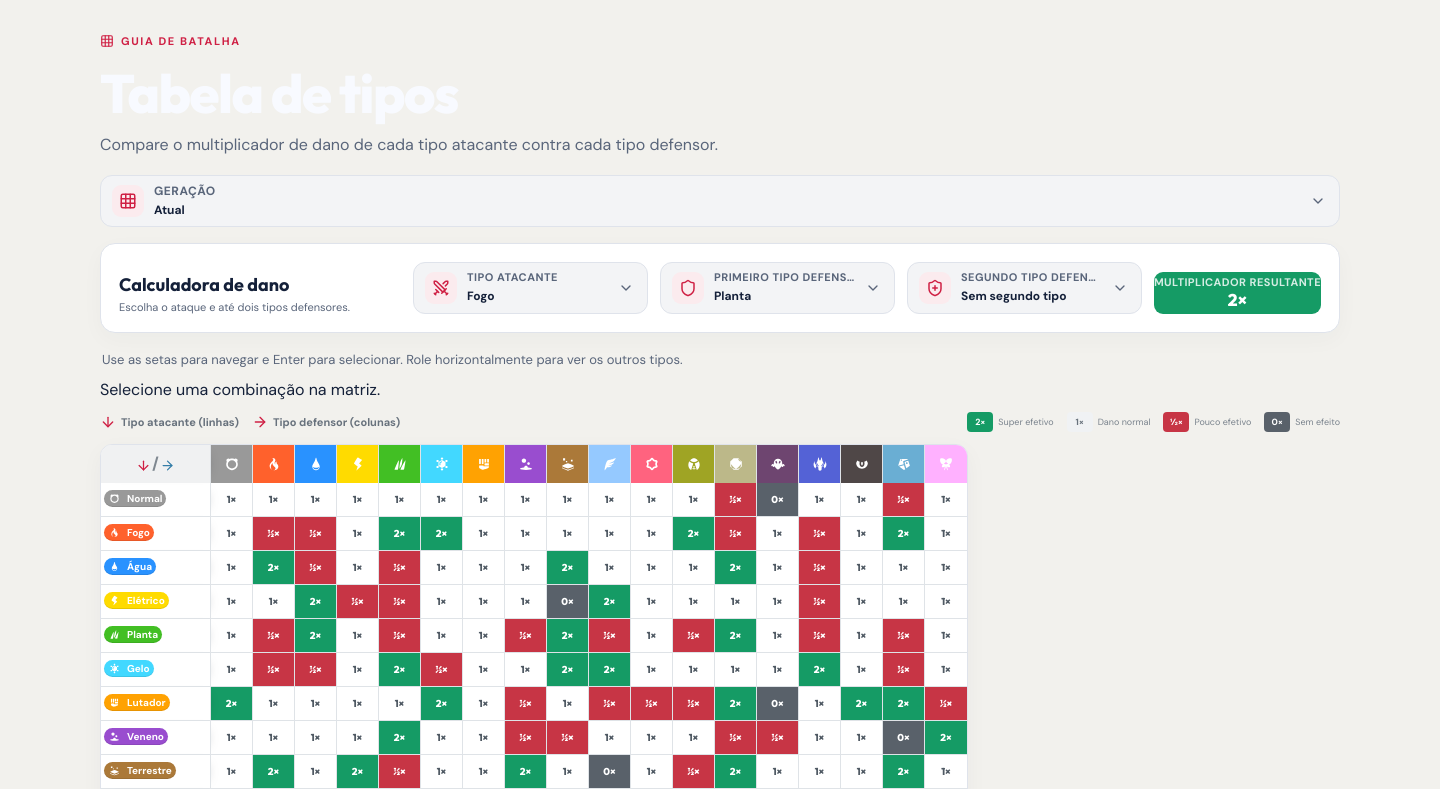
Test: TypesTablePage › clears a duplicate second defender when the first selector changes
What coordinates should you click on to do the following:
click the dropdown labelled "Segundo tipo defensor"
I would click on:
 (1024, 288)
Its box is x1=907 y1=262 x2=1142 y2=314.
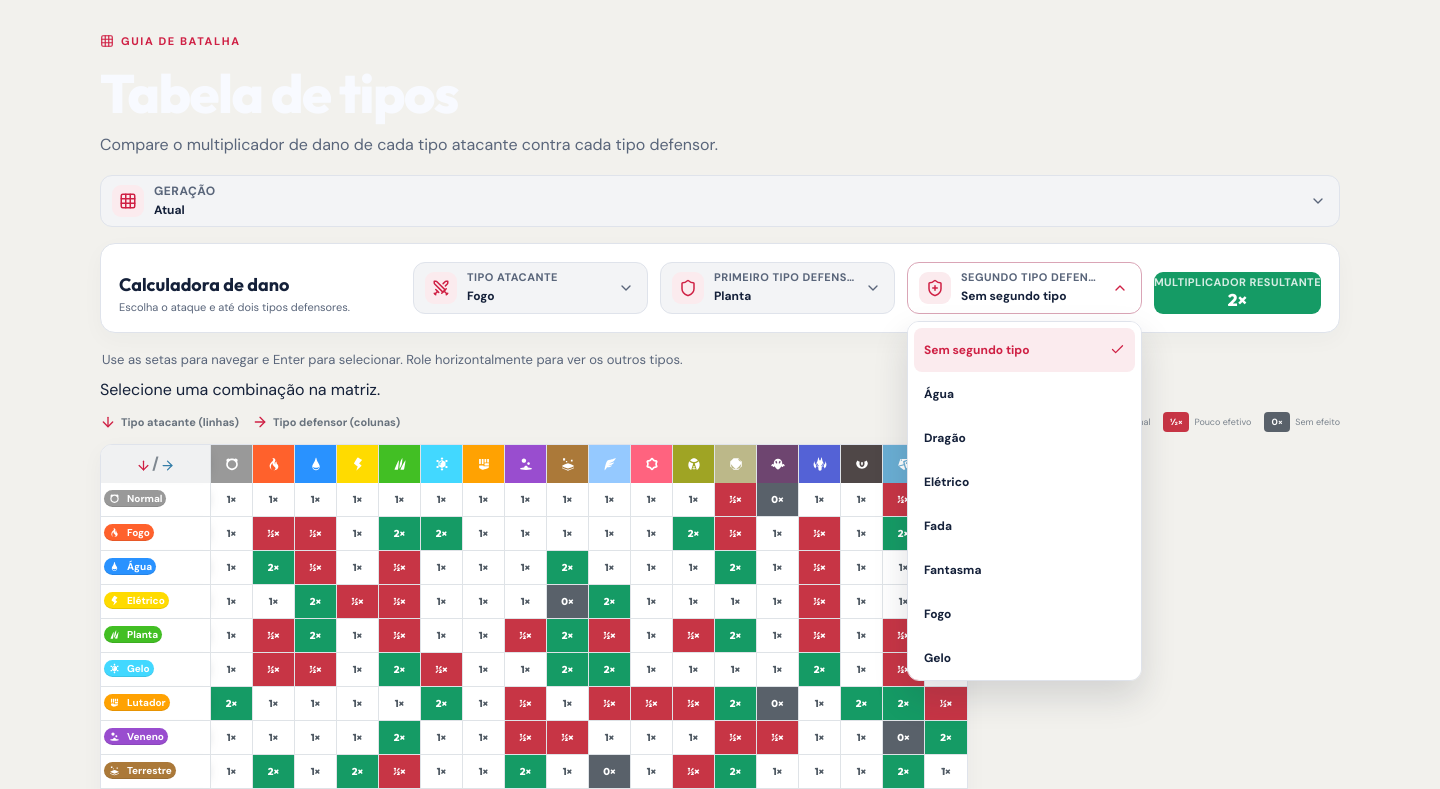
What coordinates should you click on to do the following:
click the option "Água"
I would click on:
 (1024, 394)
Its box is x1=914 y1=372 x2=1135 y2=416.
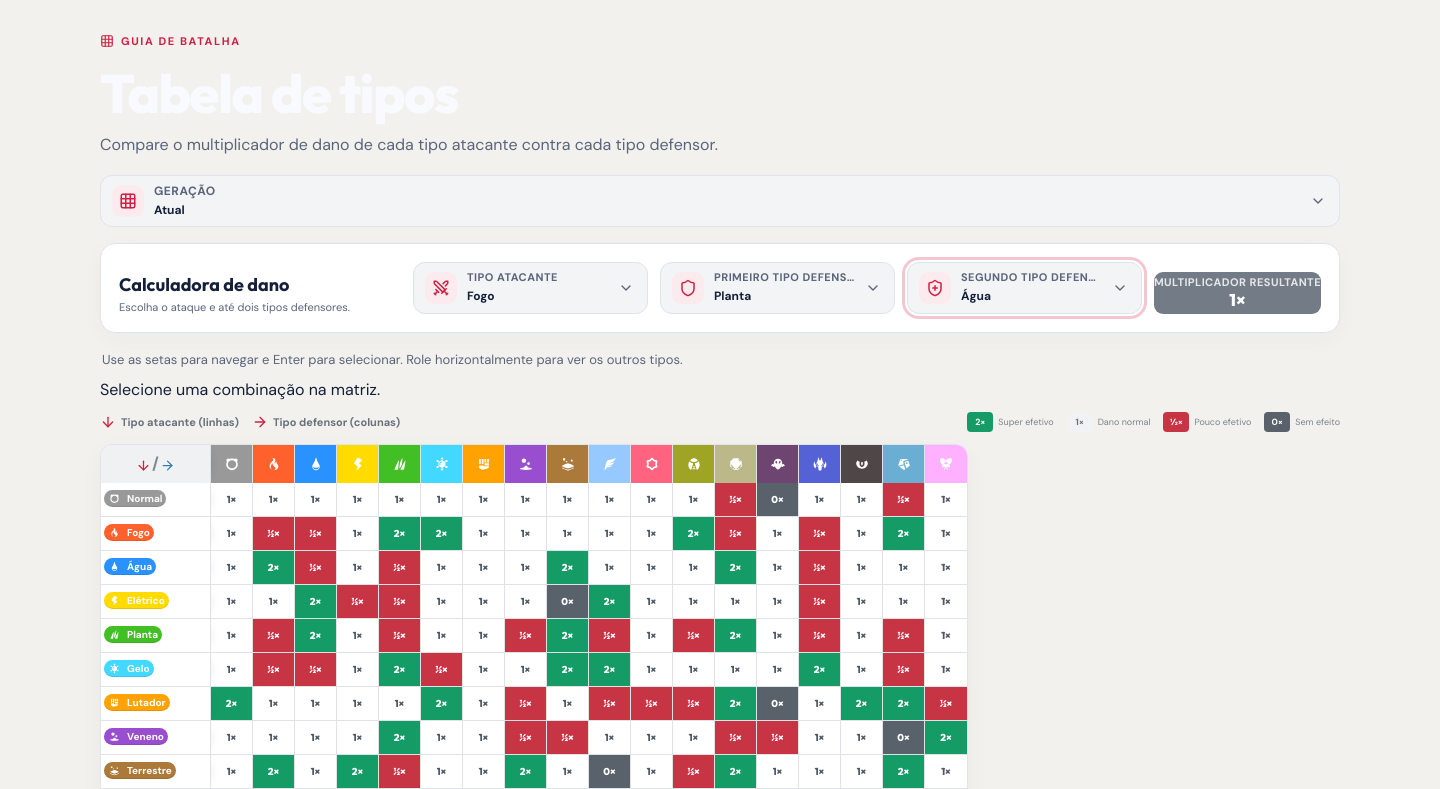
What coordinates should you click on to do the following:
click the dropdown labelled "Primeiro tipo defensor"
I would click on:
 (777, 288)
Its box is x1=660 y1=262 x2=895 y2=314.
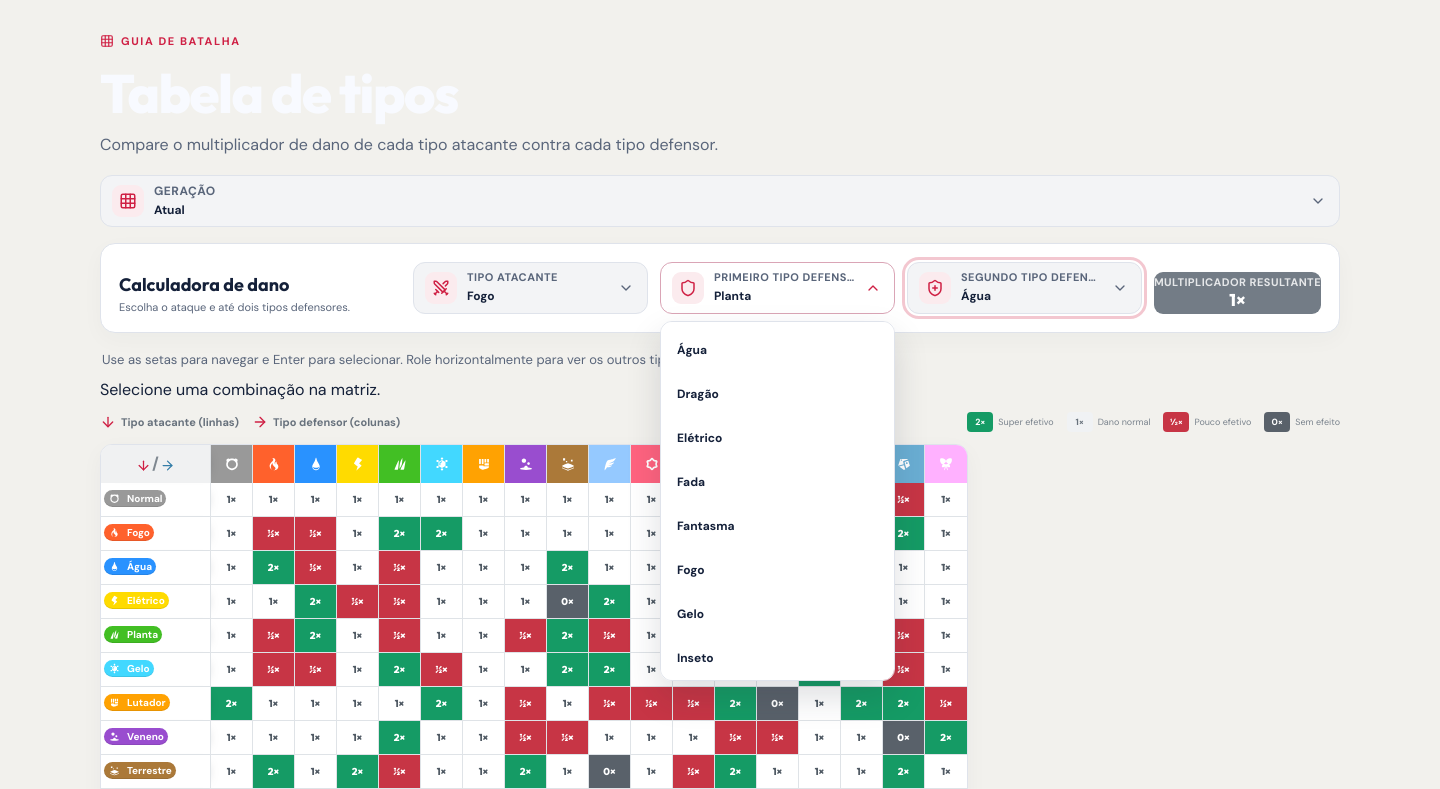
What coordinates should you click on to do the following:
click the option "Água"
I would click on:
 (777, 350)
Its box is x1=667 y1=328 x2=888 y2=372.
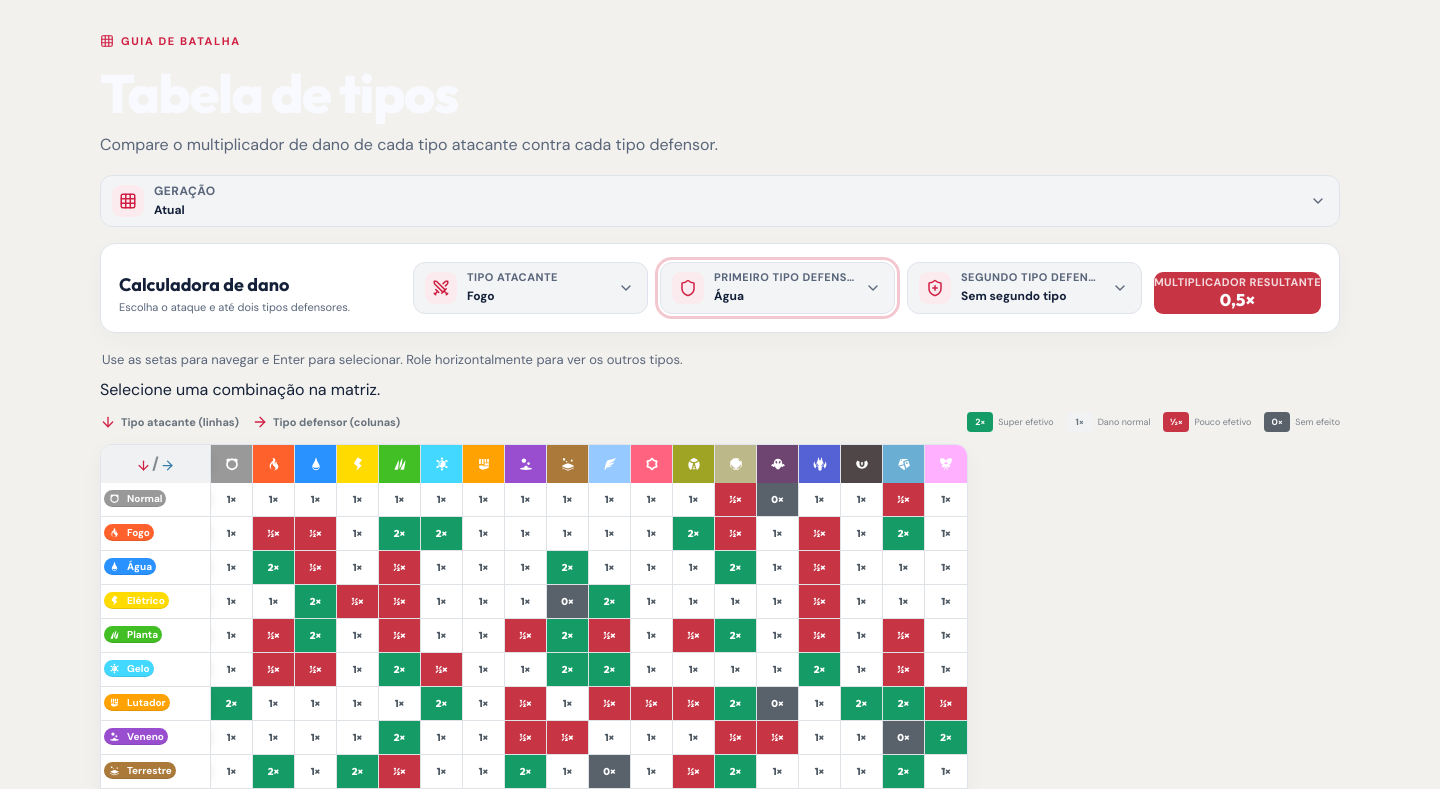
Check: the dropdown labelled "Segundo tipo defensor" shows "Sem segundo tipo", box x1=907 y1=262 x2=1142 y2=314
